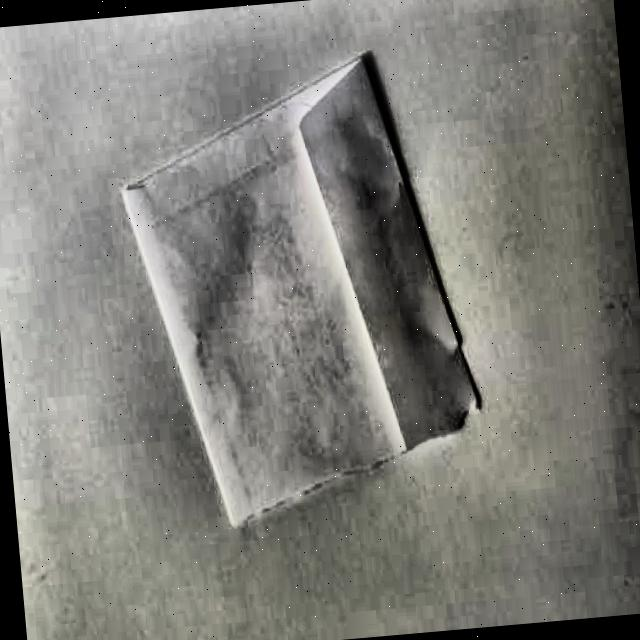paper: (112, 51, 497, 546)
